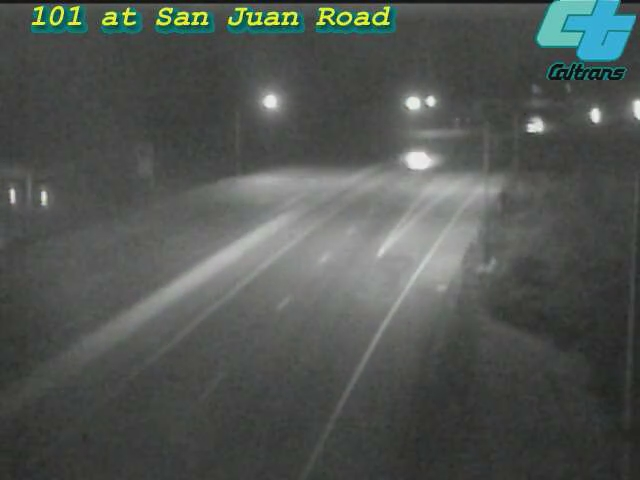vehicle: (381, 122, 461, 202), (523, 99, 573, 149), (568, 91, 618, 141), (612, 84, 640, 134)
